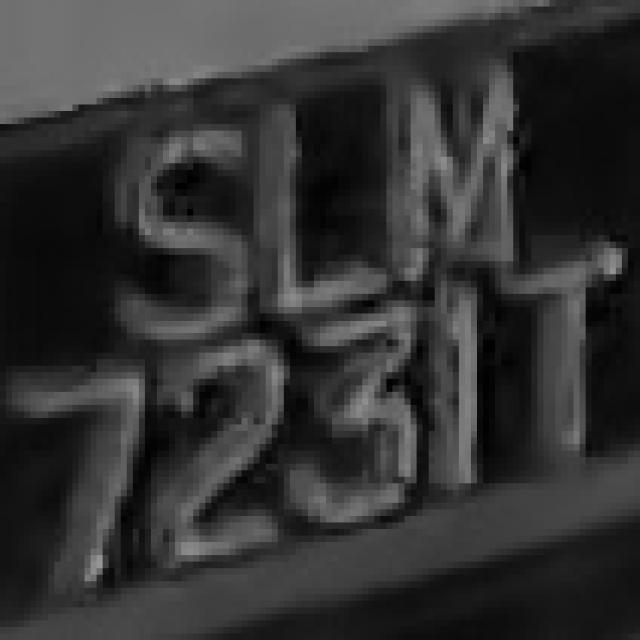1: (399, 255, 495, 529)
2: (163, 340, 296, 594)
3: (284, 281, 422, 542)
7: (18, 327, 145, 620)
L: (230, 78, 380, 326)
M: (374, 52, 538, 294)
S: (78, 111, 260, 359)
T: (489, 255, 640, 496)
